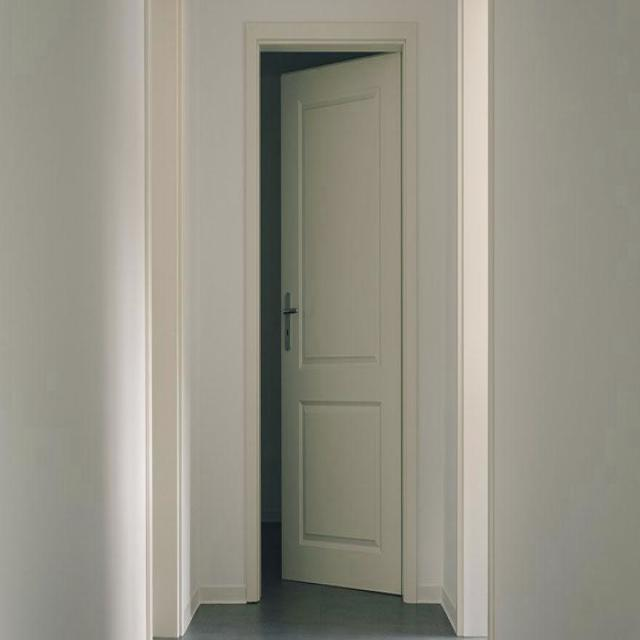door: (238, 14, 419, 613)
